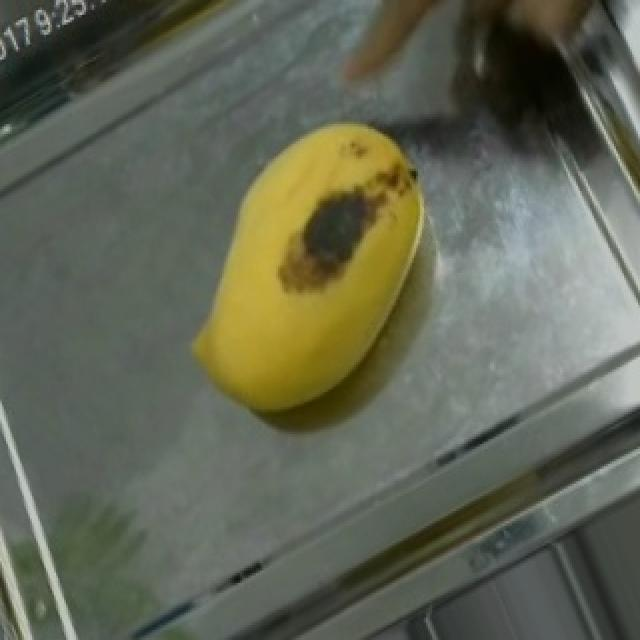fruit: (144, 74, 480, 469)
